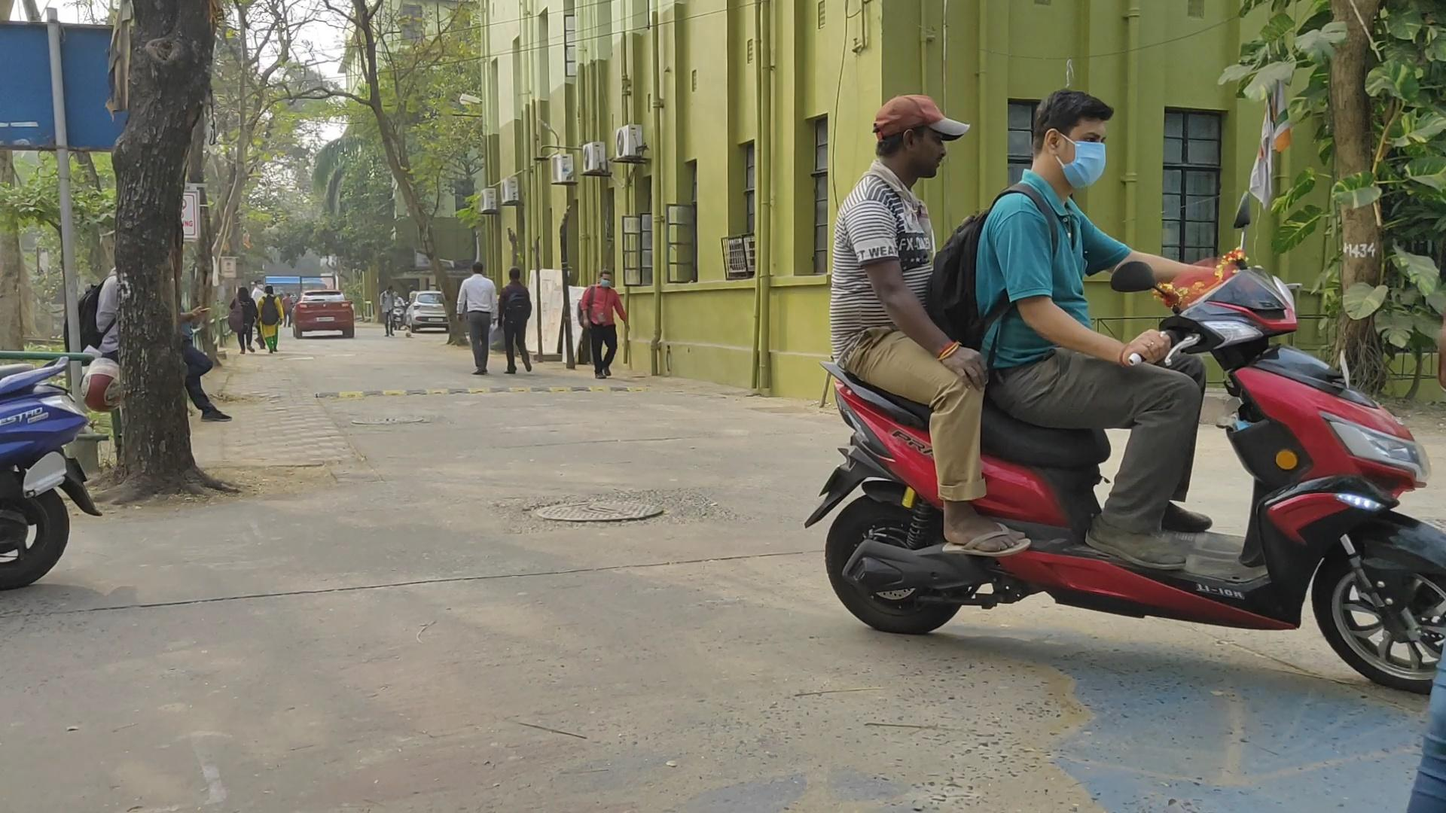bike: (804, 92, 1446, 694), (390, 291, 410, 330)
car: (290, 289, 355, 339), (405, 290, 453, 333)
